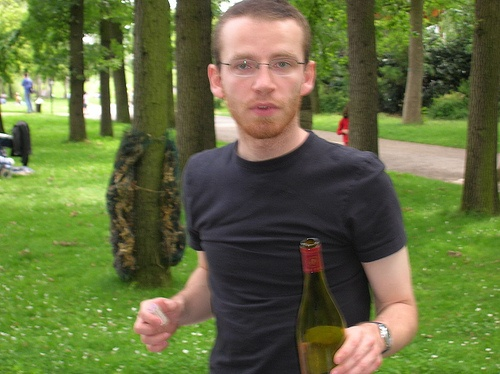head: (206, 1, 319, 143)
person: (128, 1, 432, 374), (19, 70, 32, 111), (335, 104, 348, 144)
